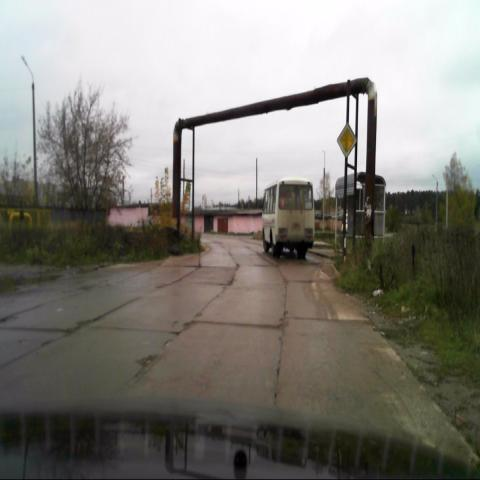2_1: (337, 122, 358, 160)
